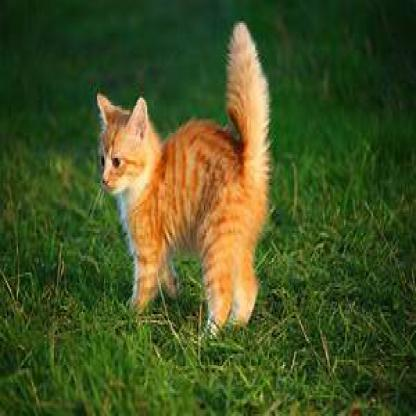cat: (96, 31, 273, 335)
